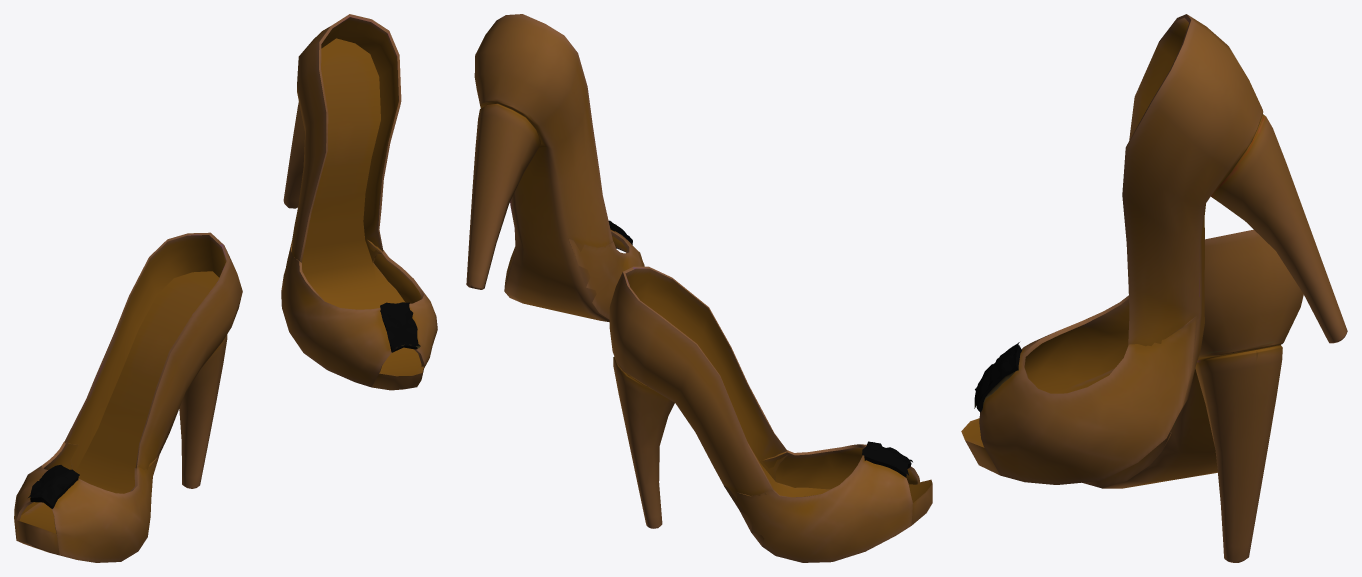
Rendered from BellyD.fbx.
The picture shows the model from 3 angles, left to right: view 1: azimuth 30°, elevation 25°; view 2: azimuth 150°, elevation 25°; view 3: azimuth 270°, elevation 25°; orthographic projection. The views are drawn at different scales.
Parts seen in each view (by area): view 1: BellyD; view 2: BellyD; view 3: BellyD.
Part boxes in pixels (bbox=[...]): BellyD: bbox=[14, 14, 437, 562]; BellyD: bbox=[466, 14, 932, 562]; BellyD: bbox=[961, 14, 1347, 562].
Bounding box in the file's own units: 37.13 × 39.46 × 21.62.
